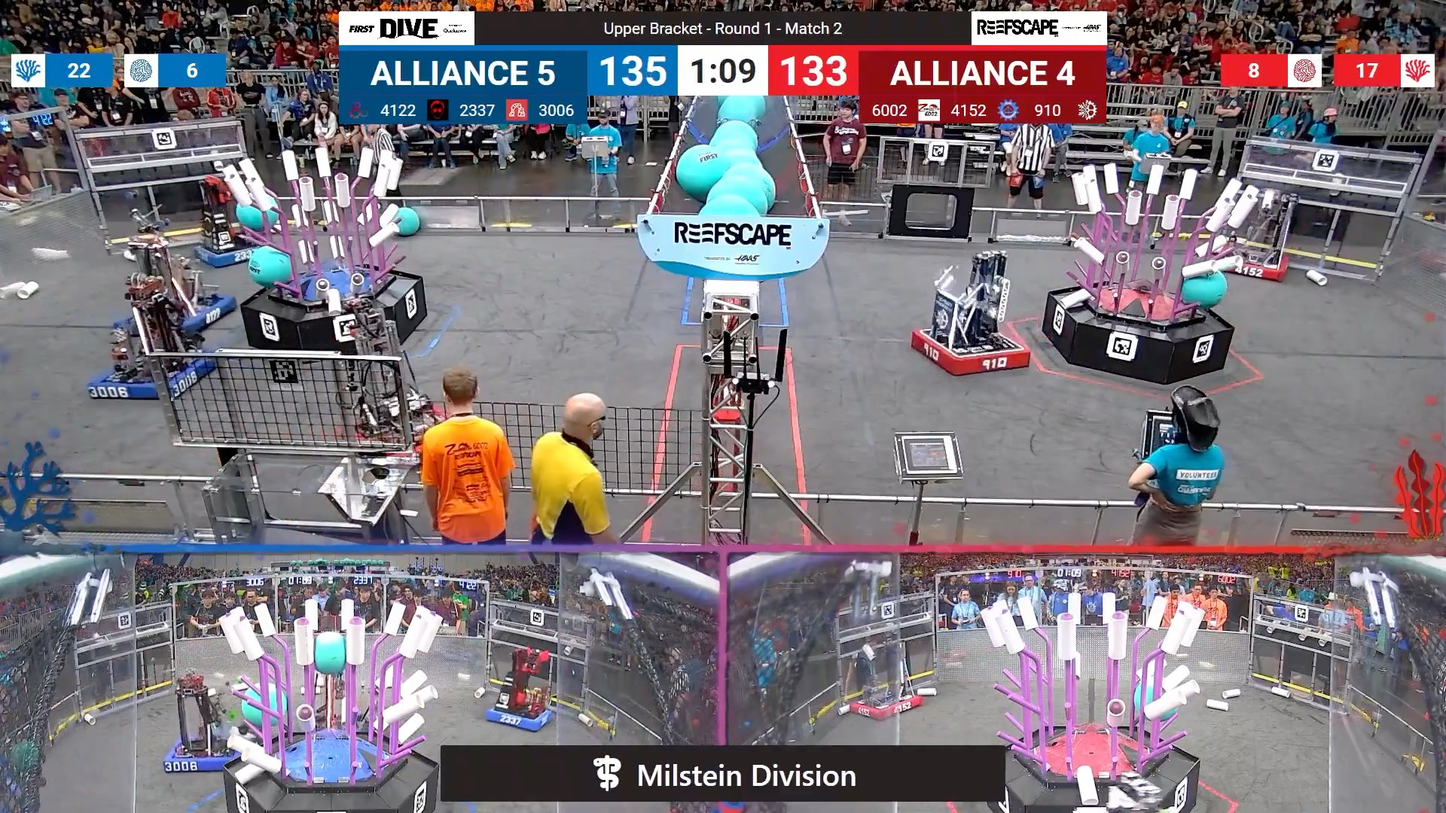bumpers: (908, 321, 1037, 379), (86, 349, 217, 403), (162, 728, 248, 778), (151, 290, 242, 334), (1197, 244, 1297, 284), (479, 697, 560, 735), (844, 687, 928, 723), (185, 241, 267, 272)
